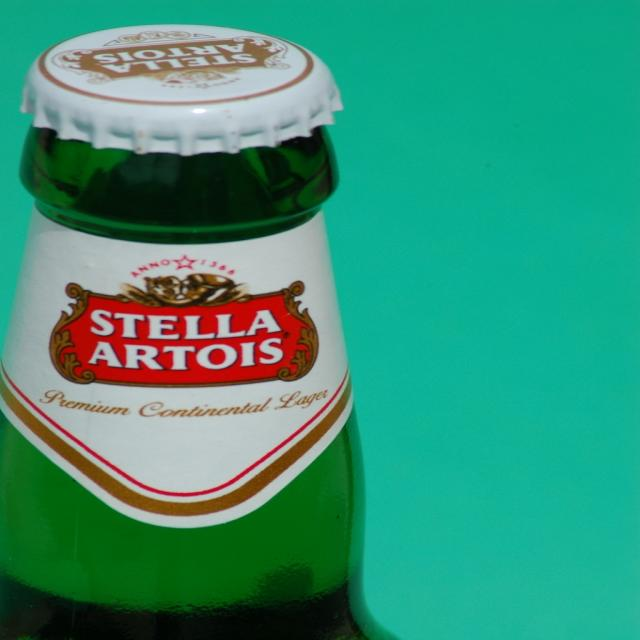stellaartois: (43, 253, 332, 398), (52, 28, 297, 99)
